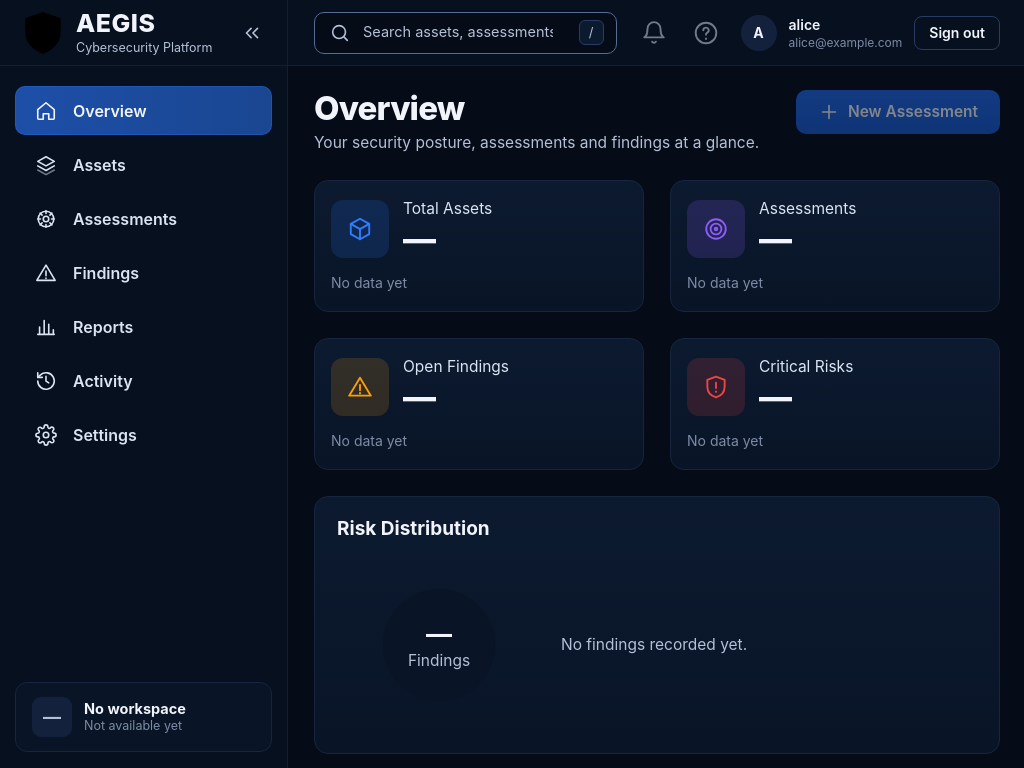
Test case: session › signs out on the server and returns to the sign-in page
Click the button "Sign out": (957, 32) 914,16 -> 1000,50
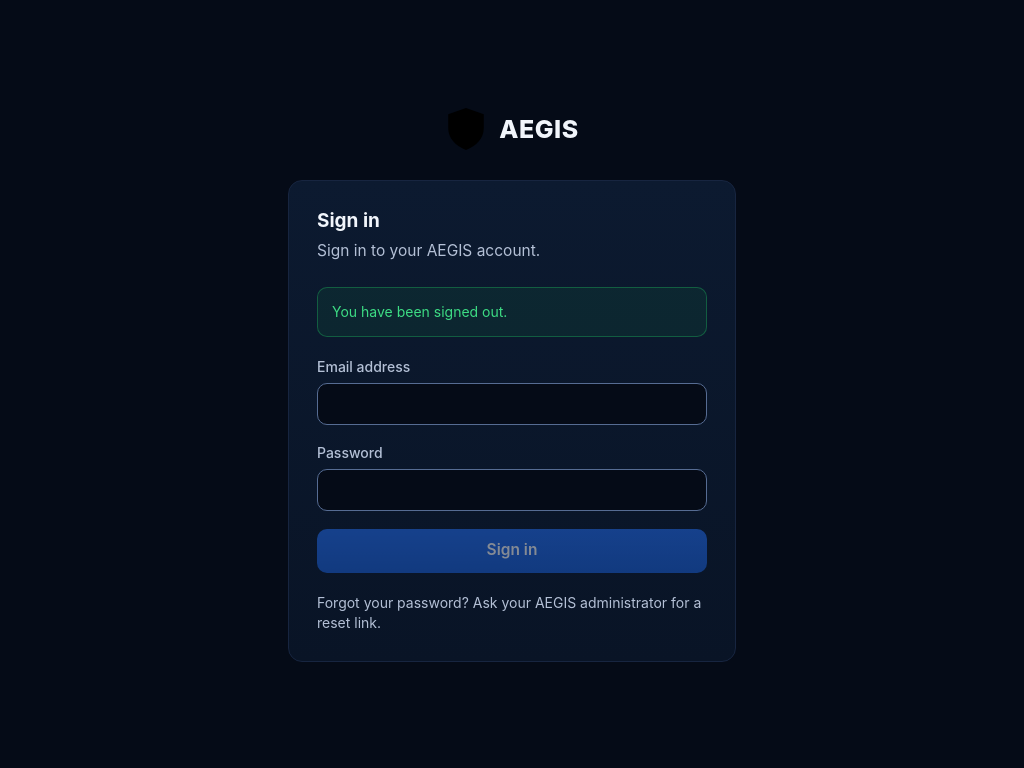
Expected: the text "You have been signed out." is shown, 317,287 -> 707,337
